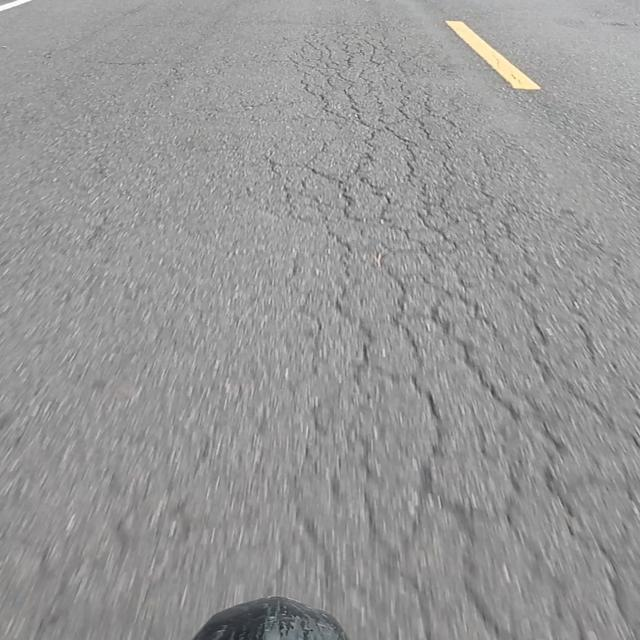Retak Buaya: (295, 0, 640, 640)
